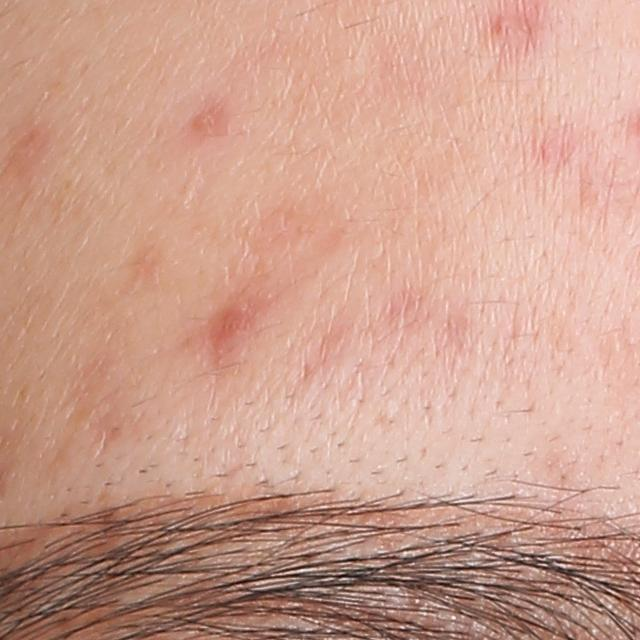papule: (210, 307, 255, 352)
